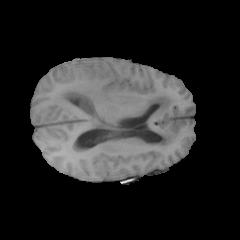glioma: (55, 81, 177, 147)
